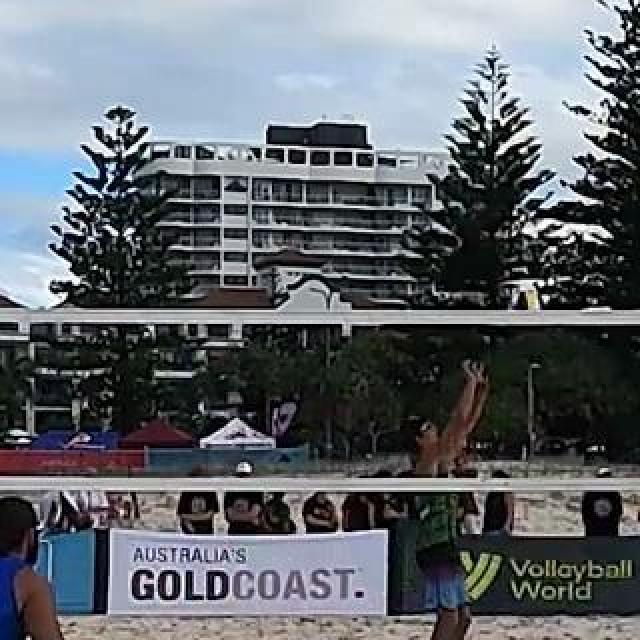volleyball: (509, 284, 543, 318)
